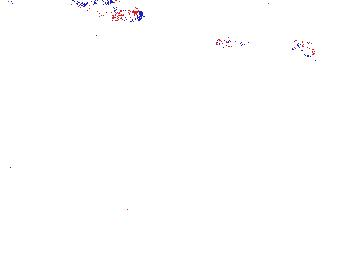glassfish: (289, 36, 346, 69)
red belly glassfish: (82, 2, 146, 23), (213, 35, 249, 51)
